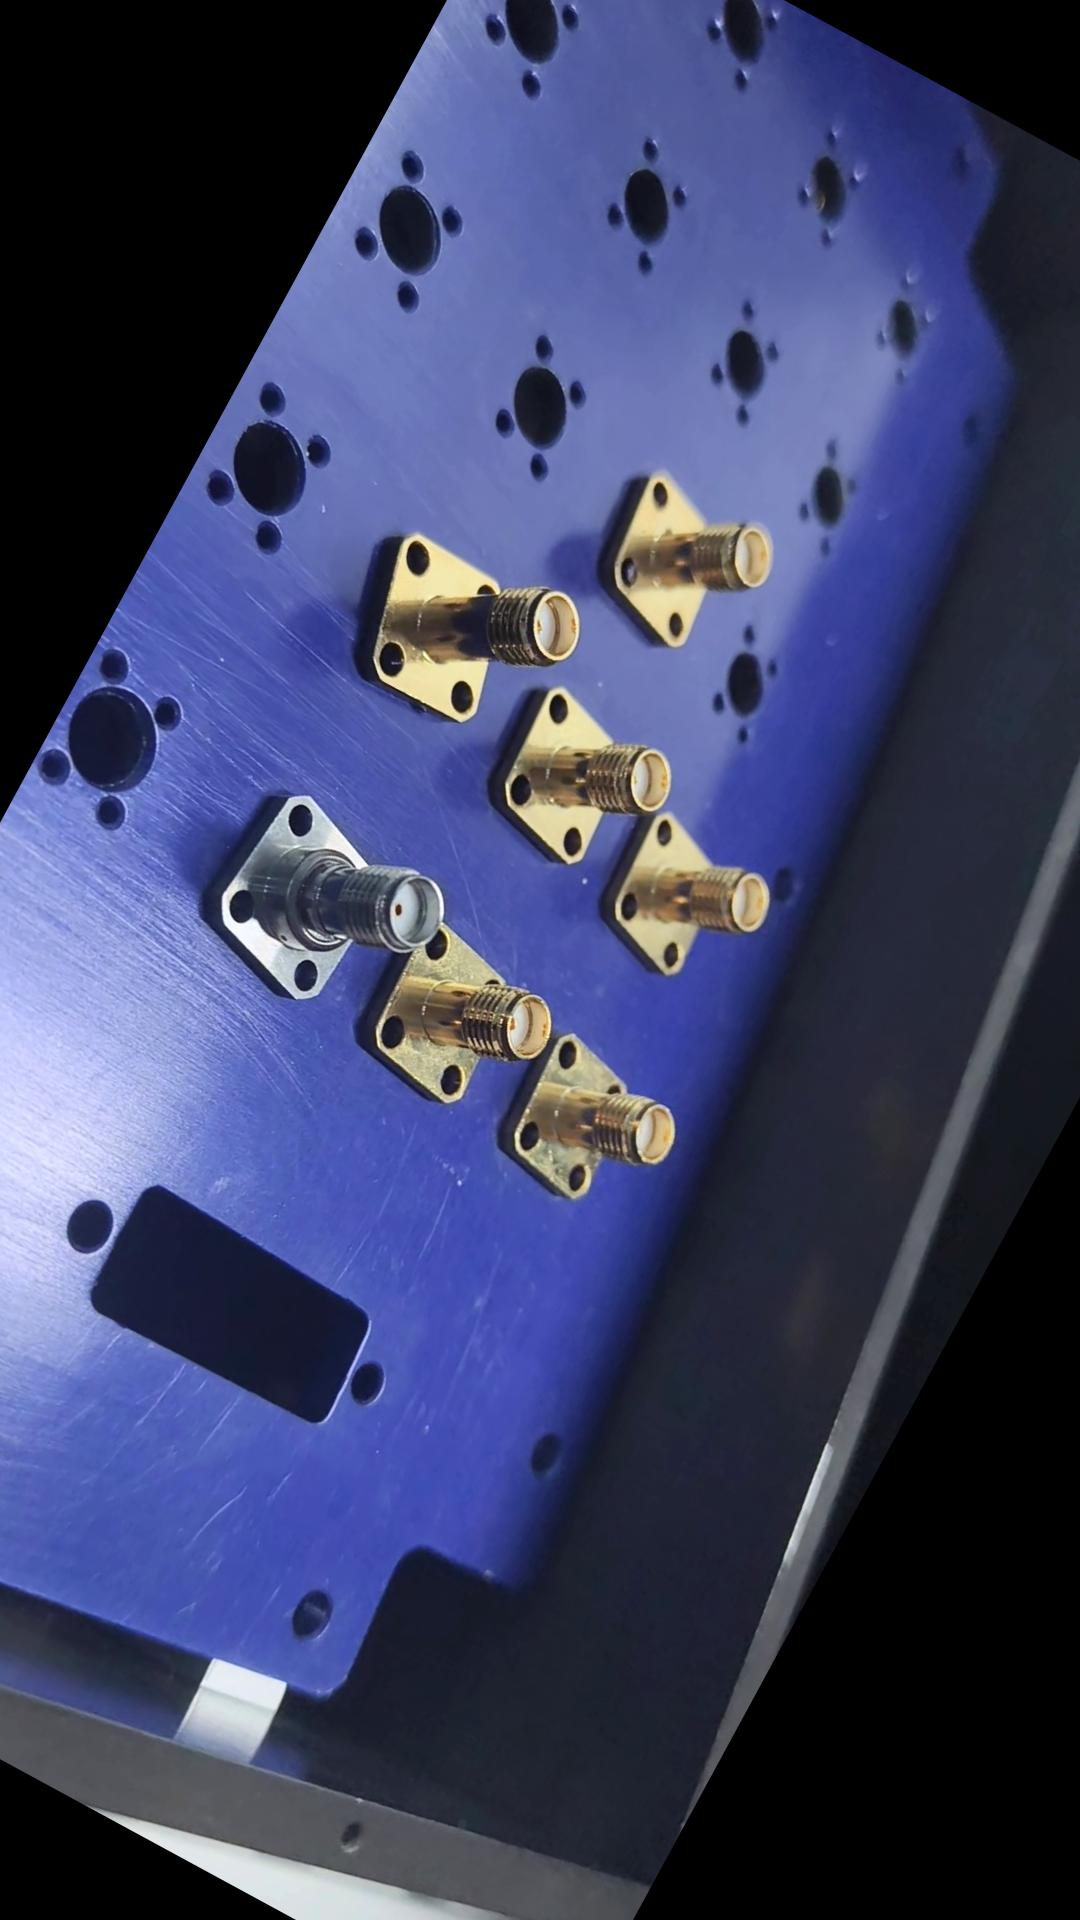SMA: (179, 767, 464, 1042), (334, 502, 600, 757), (348, 913, 572, 1135), (476, 1018, 699, 1240), (473, 679, 695, 893), (580, 462, 796, 670), (582, 803, 790, 1007)
